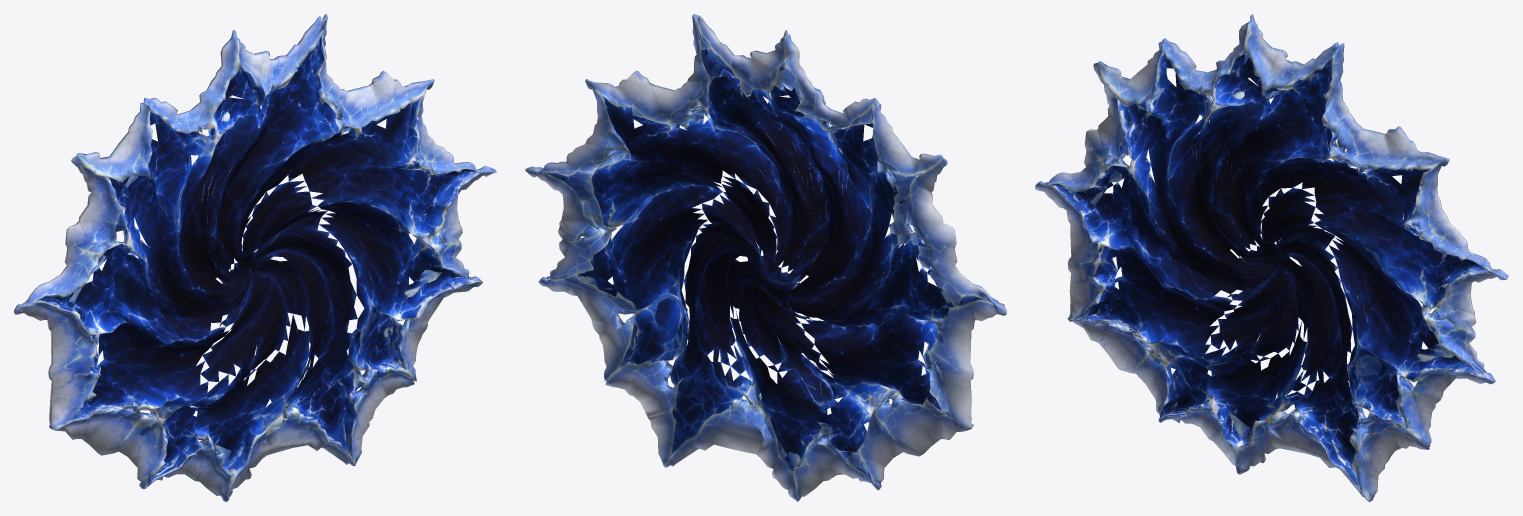
Rendered from fx-rift.glb.
3 views of the same model, side by side, from view 1: azimuth 30°, elevation 25°; view 2: azimuth 150°, elevation 25°; view 3: azimuth 330°, elevation 25° (orthographic).
Bounding box in the file's own units: 0.9512 × 0.8857 × 0.0718.
1 material, 1 textured.
